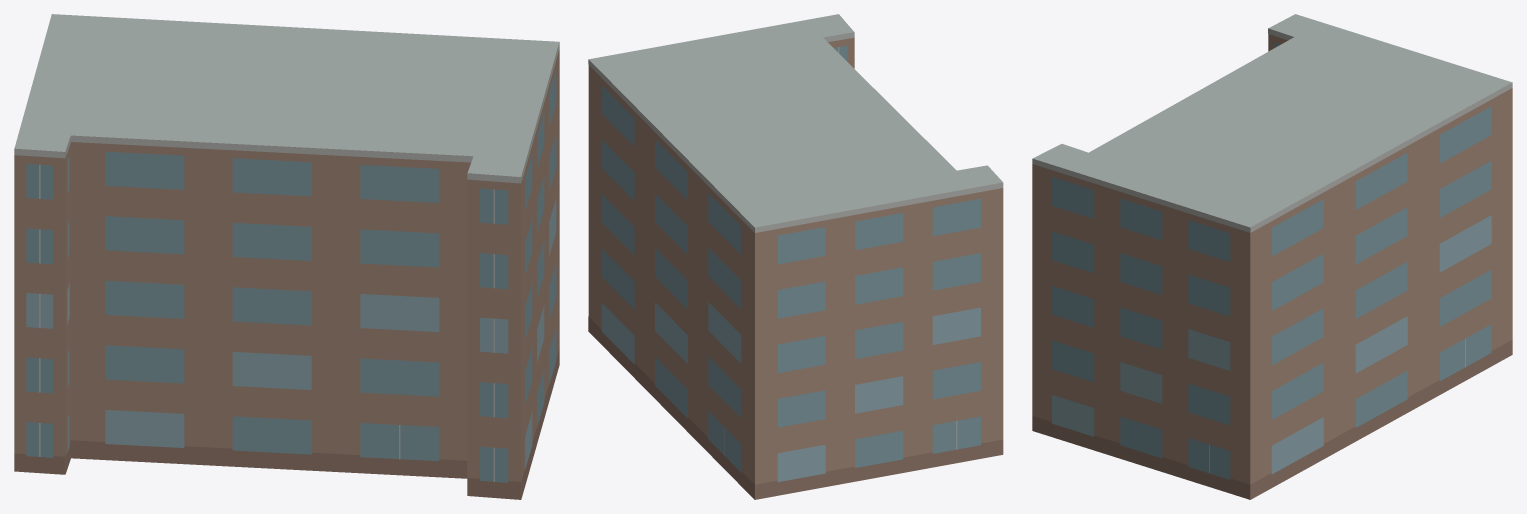
Rendered from survey-upis-32934877.glb.
The picture shows the model from 3 angles, left to right: view 1: azimuth 30°, elevation 25°; view 2: azimuth 150°, elevation 25°; view 3: azimuth 270°, elevation 25°; orthographic projection. The views are drawn at different scales.
Parts seen in each view (by area): view 1: survey-upis-32934877.tmp; view 2: survey-upis-32934877.tmp; view 3: survey-upis-32934877.tmp.
Part boxes in pixels (x1,y1,x2,y2): survey-upis-32934877.tmp: [14, 14, 559, 499]; survey-upis-32934877.tmp: [588, 14, 1003, 499]; survey-upis-32934877.tmp: [1032, 14, 1512, 499].
Size of the model in its own units: 20.69 by 12.3 by 19.66.
